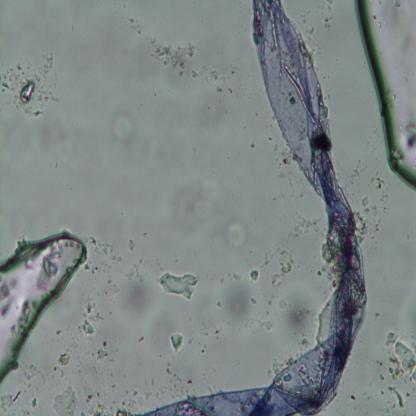Air bubble: (0, 231, 88, 383), (352, 0, 416, 192), (21, 79, 37, 103)
Background material: (129, 16, 221, 85), (0, 119, 107, 170), (116, 249, 165, 329), (278, 282, 317, 348), (220, 272, 260, 336), (10, 59, 59, 111), (358, 167, 390, 240), (174, 179, 219, 227), (86, 231, 121, 281), (84, 382, 135, 413), (386, 330, 416, 382), (150, 366, 198, 397), (160, 269, 198, 303), (283, 210, 320, 240), (50, 382, 79, 414), (110, 110, 136, 144), (225, 218, 250, 252), (271, 253, 296, 284), (317, 6, 335, 42), (81, 299, 96, 339), (216, 72, 235, 96), (389, 383, 407, 408), (95, 339, 110, 366), (169, 329, 185, 353), (57, 347, 71, 370), (136, 324, 148, 348), (249, 266, 261, 284), (244, 138, 256, 152), (360, 193, 371, 208), (374, 356, 382, 370), (378, 372, 384, 383)
Cotton: (138, 0, 366, 415)
